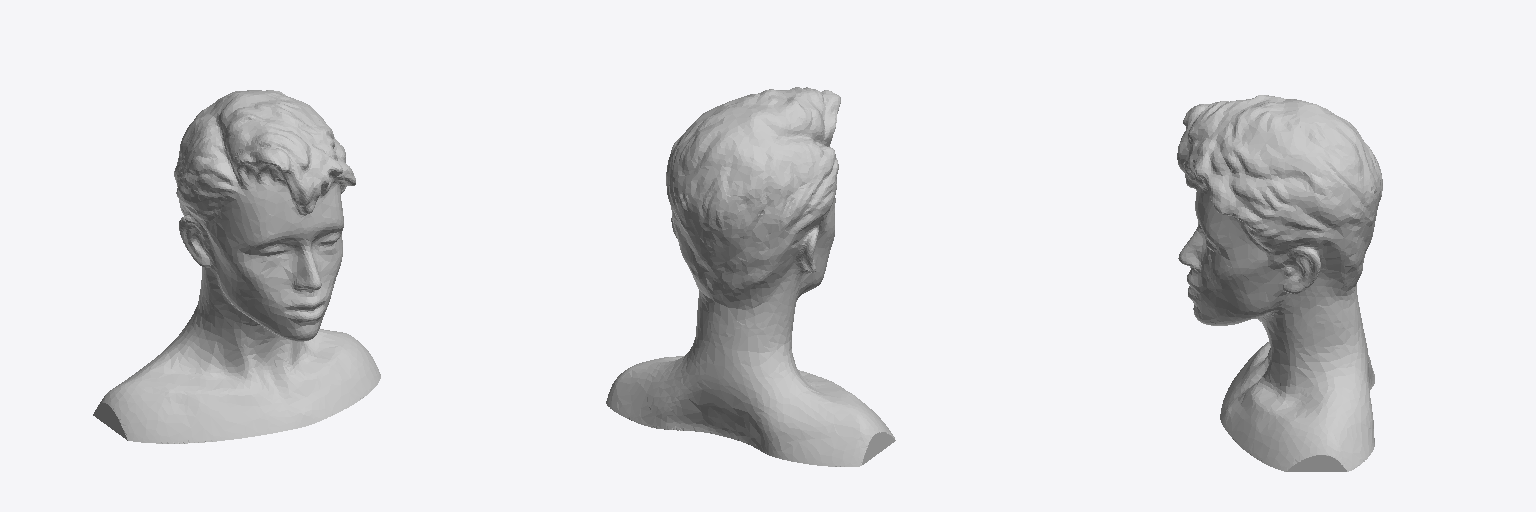
File: polhemus_head.obj
3 views of the same model, side by side, from view 1: azimuth 30°, elevation 25°; view 2: azimuth 150°, elevation 25°; view 3: azimuth 270°, elevation 25° (orthographic).
Size of the model in its own units: 1.75 by 2 by 1.21.